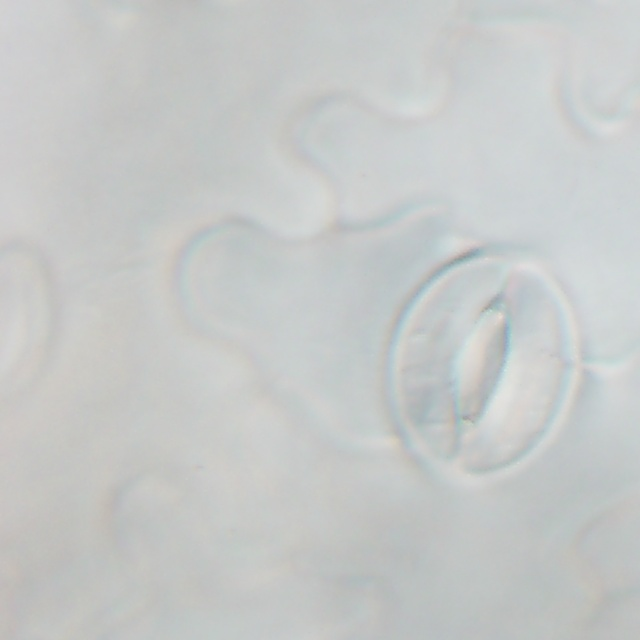center: (450, 297, 510, 428), (0, 314, 60, 322)
stomata-huw1: (387, 250, 575, 475), (1, 243, 51, 394)
